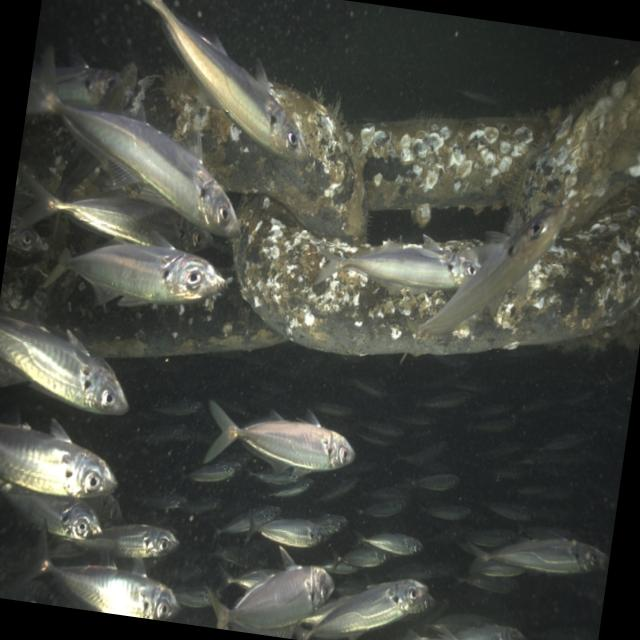ChainLink: (232, 196, 640, 356), (0, 214, 283, 357), (139, 73, 367, 241), (508, 65, 640, 231), (351, 118, 538, 210), (19, 114, 80, 193), (563, 301, 640, 350), (75, 169, 109, 198)
